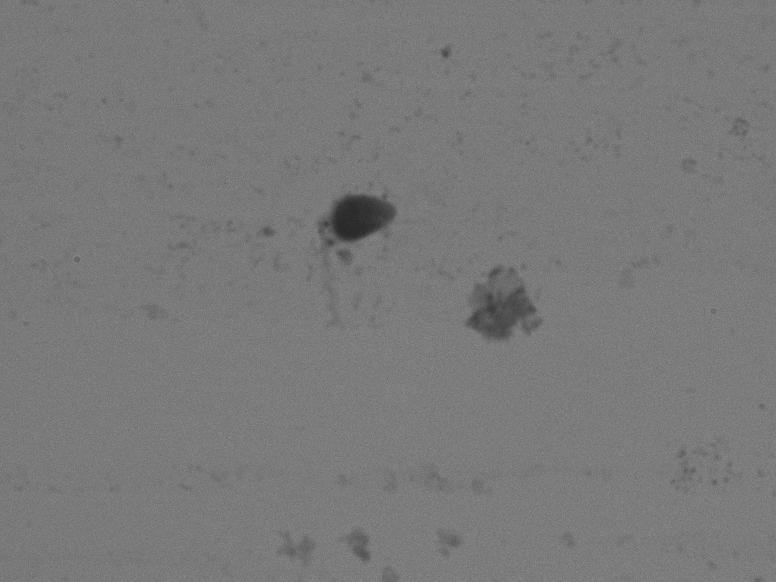Abnormal: (266, 143, 442, 365)
